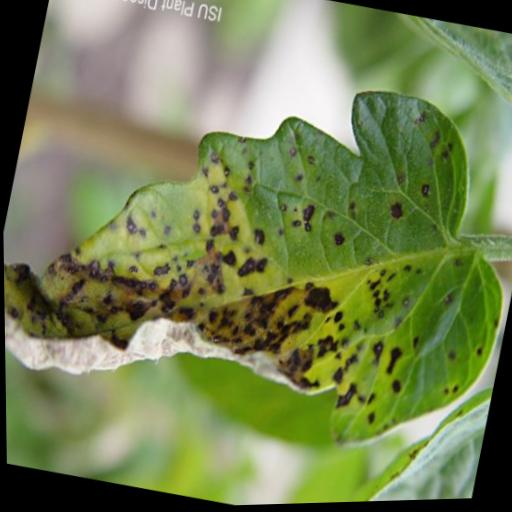Septoria: (0, 14, 512, 486)
